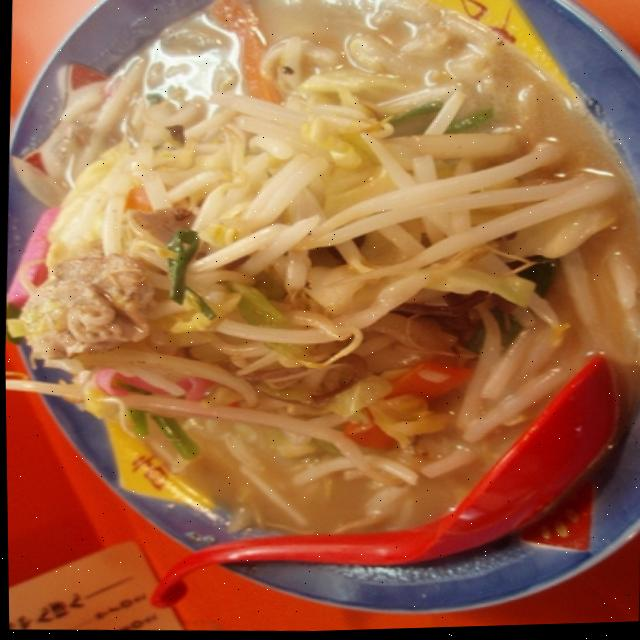牛肉菜式: (166, 154, 454, 424)
